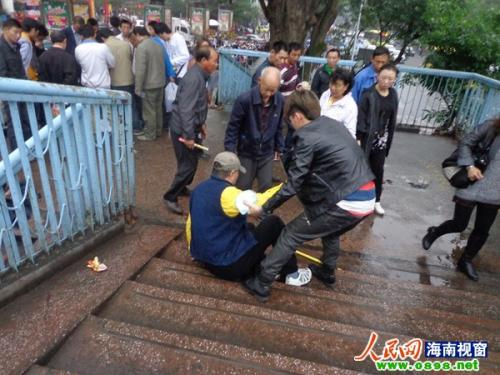10+: (5, 12, 500, 284)
down: (179, 147, 316, 293)
